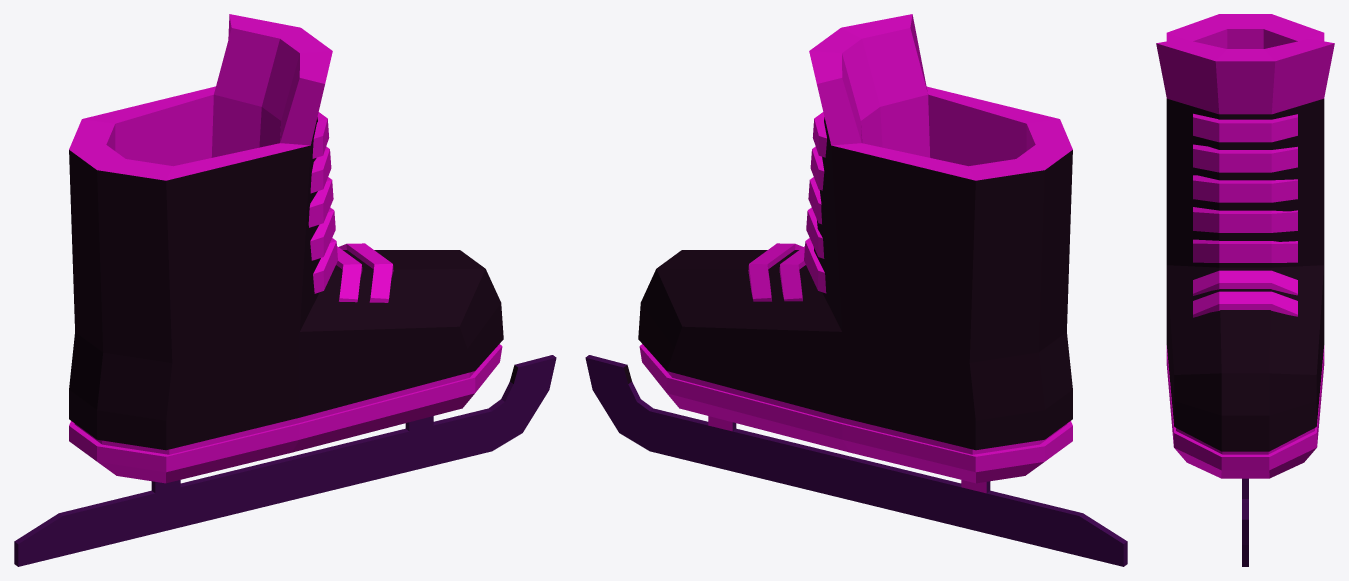
Rendered from IceSkate_01.fbx.
The picture shows the model from 3 angles, left to right: view 1: azimuth 30°, elevation 25°; view 2: azimuth 150°, elevation 25°; view 3: azimuth 270°, elevation 25°; orthographic projection. The views are drawn at different scales.
Visible parts, largest first — view 1: IceSkate_01; view 2: IceSkate_01; view 3: IceSkate_01.
Boxes of the visible parts, bbox=[...] form: IceSkate_01: bbox=[14, 14, 556, 566]; IceSkate_01: bbox=[585, 14, 1127, 566]; IceSkate_01: bbox=[1156, 14, 1334, 566].
Size of the model in its own units: 6.45 by 5.19 by 1.99.
